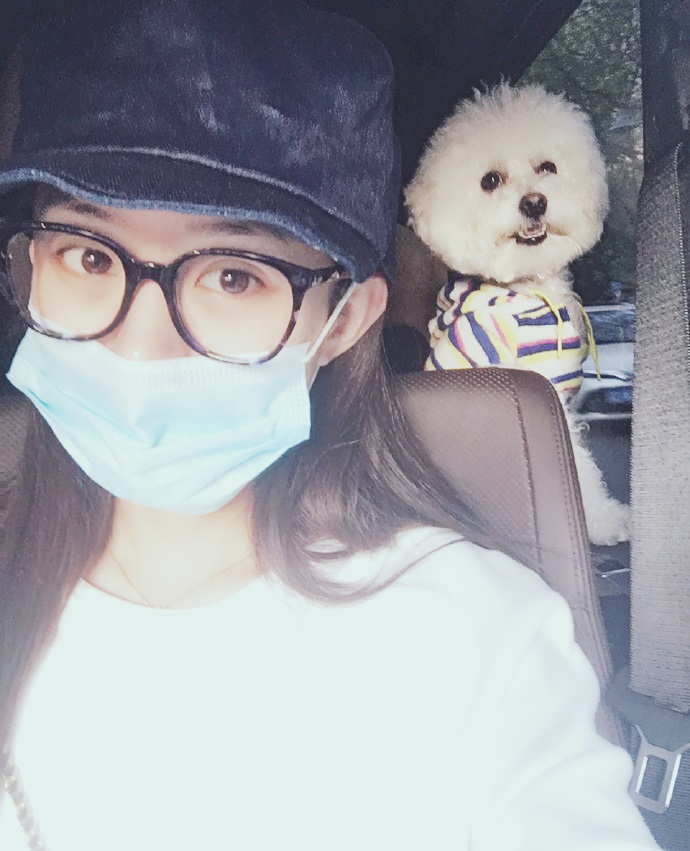face_mask: (29, 117, 314, 508)
